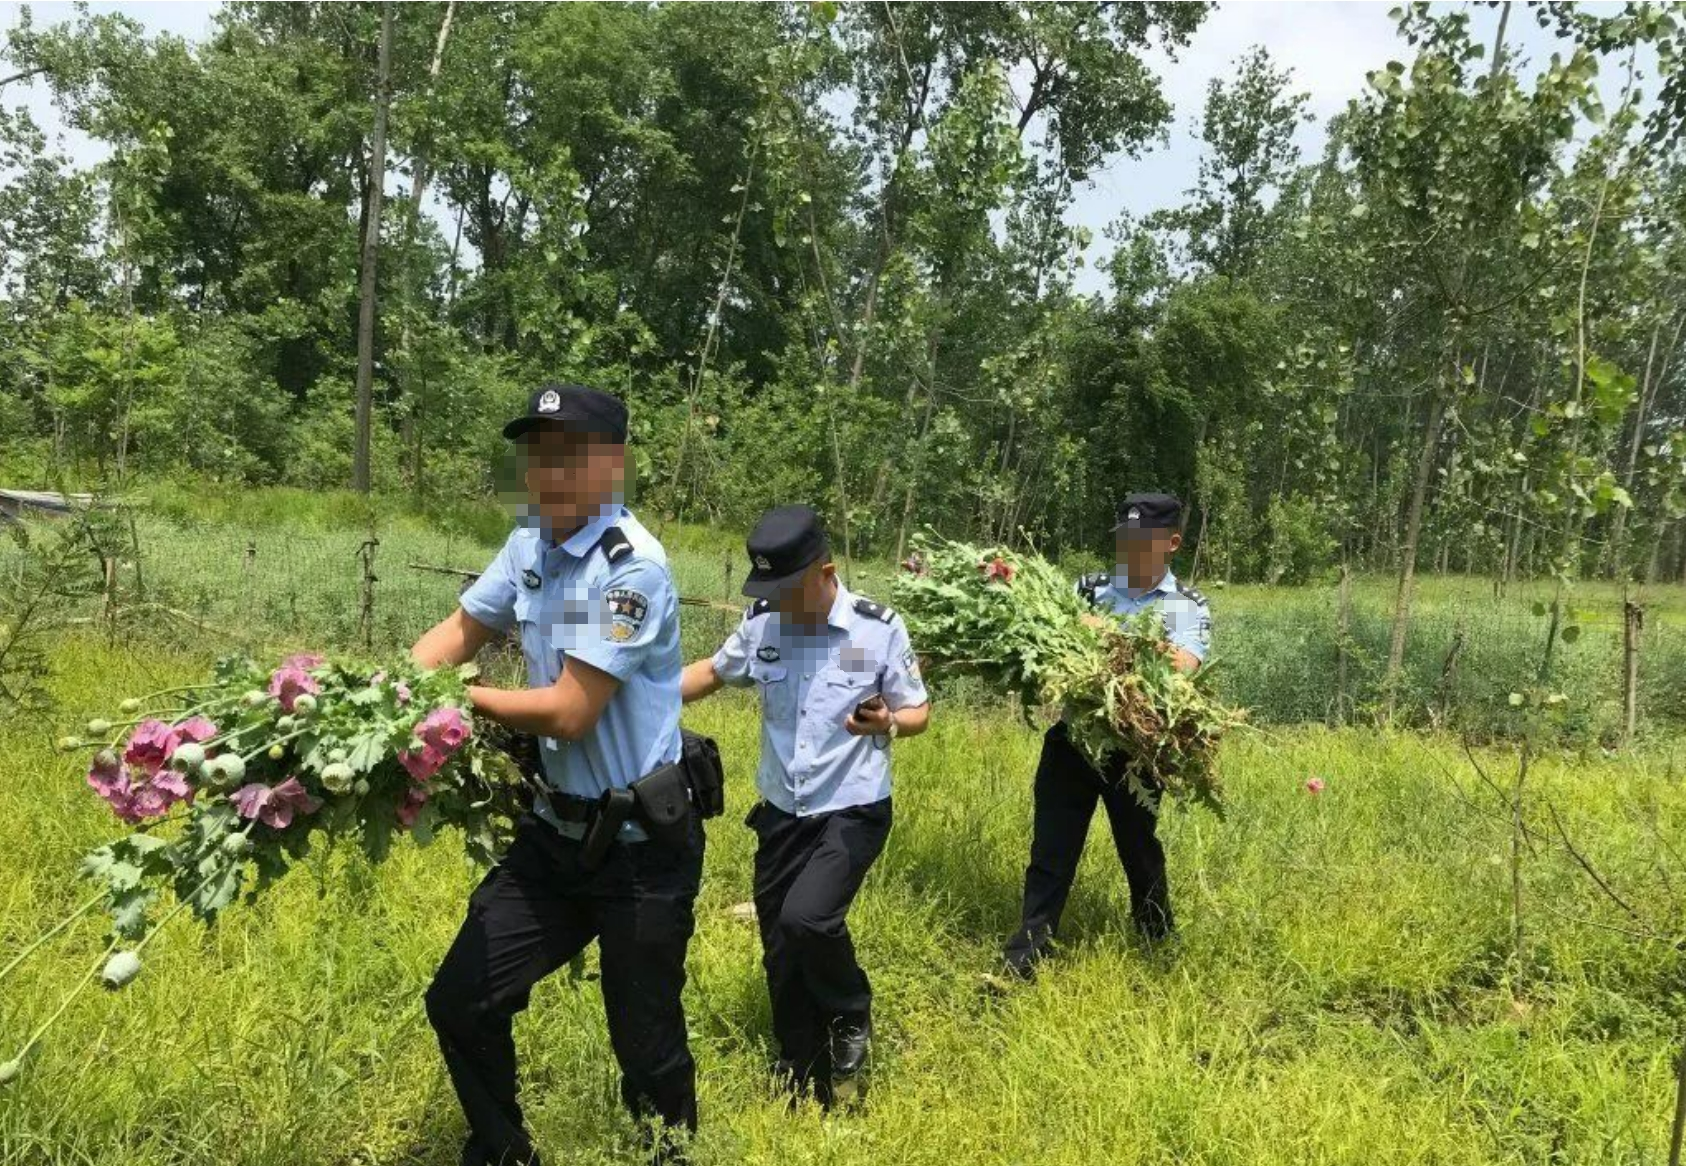Poppy: (8, 602, 542, 999), (887, 506, 1232, 800)
